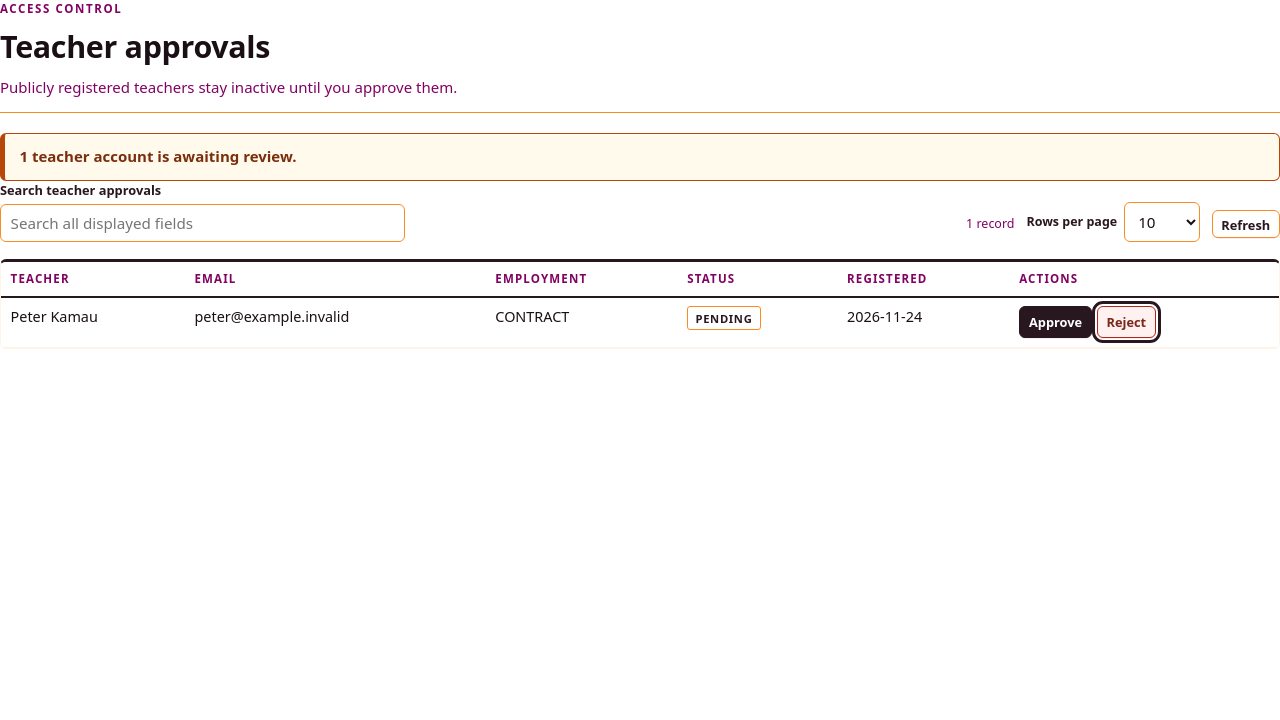
it: teacher approvals › requires a reason when rejecting and does not activate the account
Press Enter
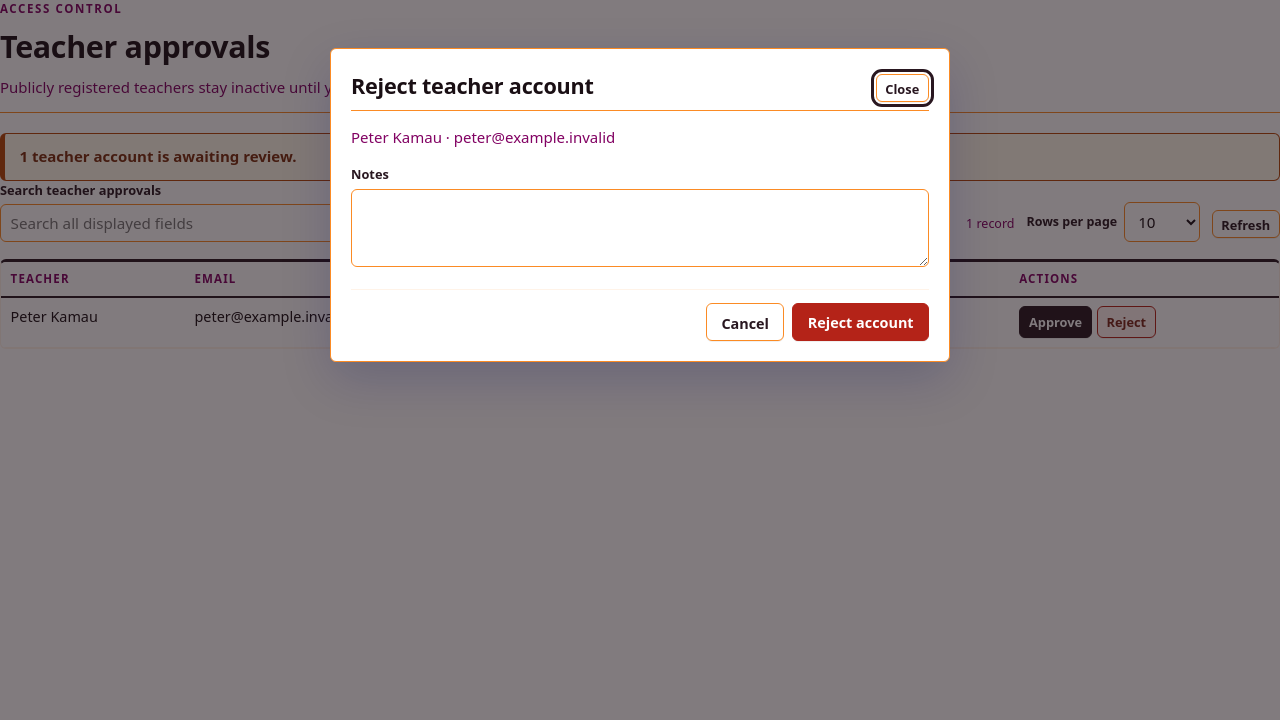
expect the dialog "Reject teacher account" is shown: met, box [330,48,950,362]
Click the button "Reject account" at {"x": 861, "y": 322}, box [792,303,929,341]
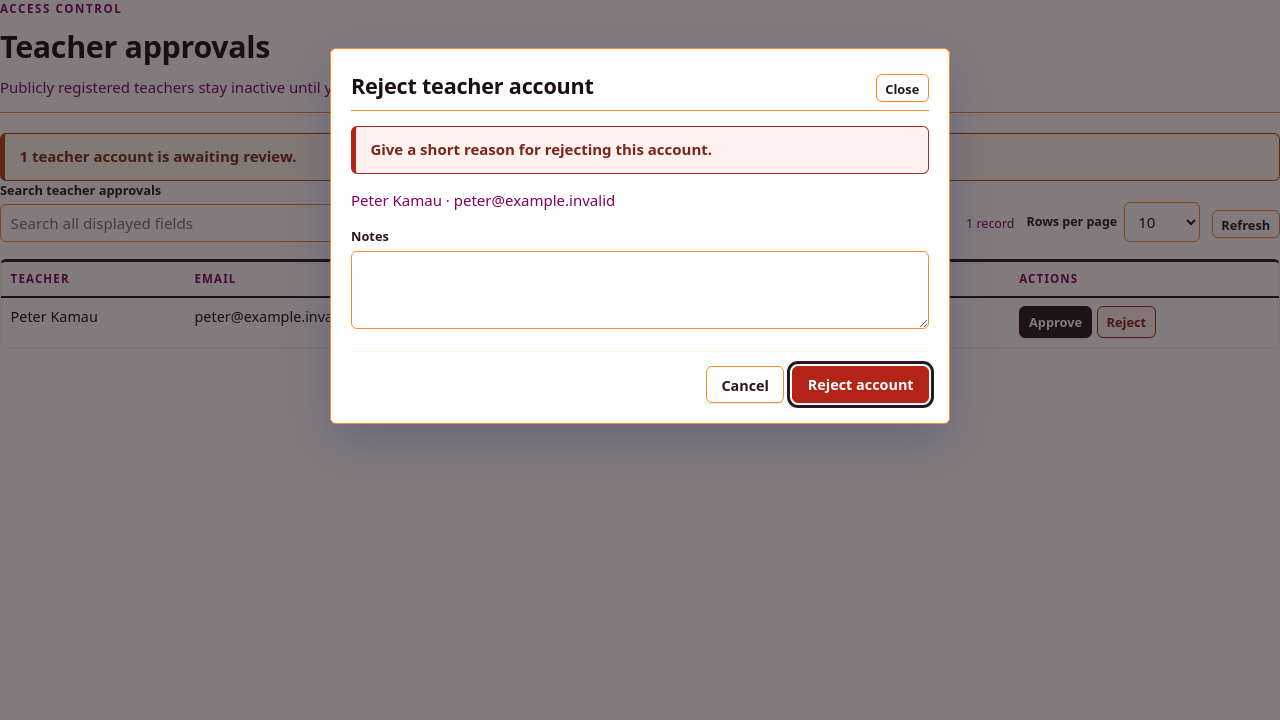
expect the text "Give a short reason for rejecting this account." is shown: met, box [351,126,929,174]
